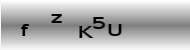5: (92, 15, 105, 29)
K: (77, 24, 93, 39)
U: (107, 22, 122, 36)
f: (19, 23, 30, 37)
z: (50, 13, 63, 24)
